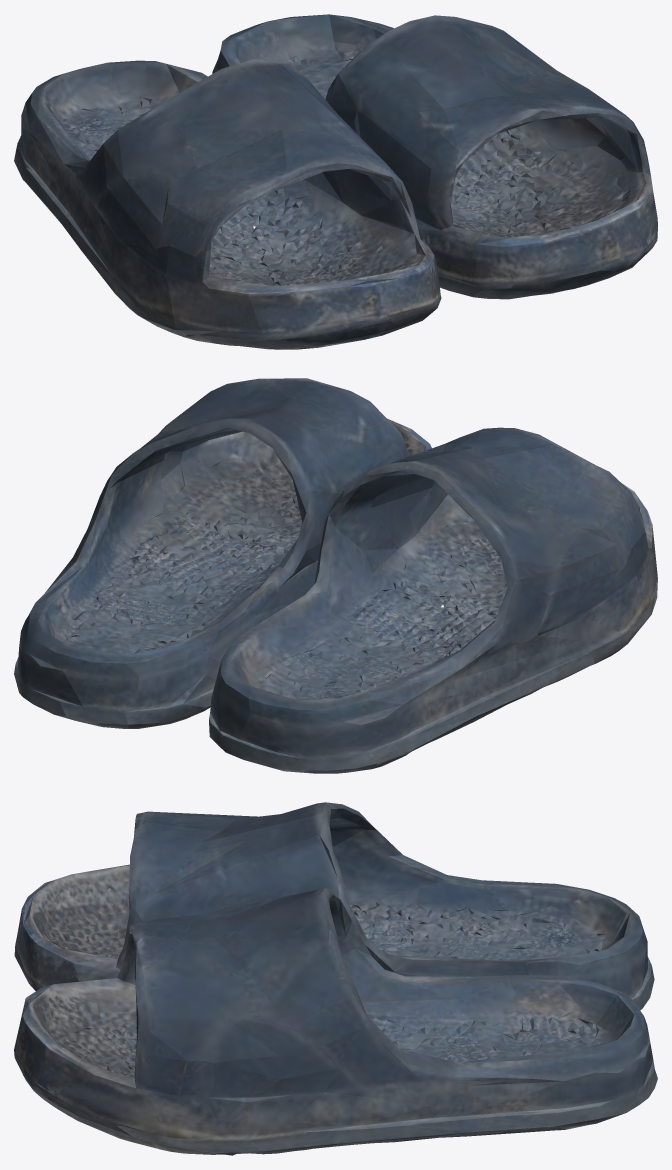
The model's file is w5slippers.glb.
3 renders of one model, top to bottom at view 1: azimuth 30°, elevation 25°; view 2: azimuth 150°, elevation 25°; view 3: azimuth 270°, elevation 25°, orthographic.
Parts seen in each view (by area): view 1: output_unwrapped; view 2: output_unwrapped; view 3: output_unwrapped.
Boxes of the visible parts, x1,y1,x2,y2 form: output_unwrapped: [14, 14, 657, 349]; output_unwrapped: [14, 378, 657, 773]; output_unwrapped: [14, 802, 657, 1155].
Size of the model in its own units: 0.2384 by 0.087 by 0.27.
1 material, 1 textured.
